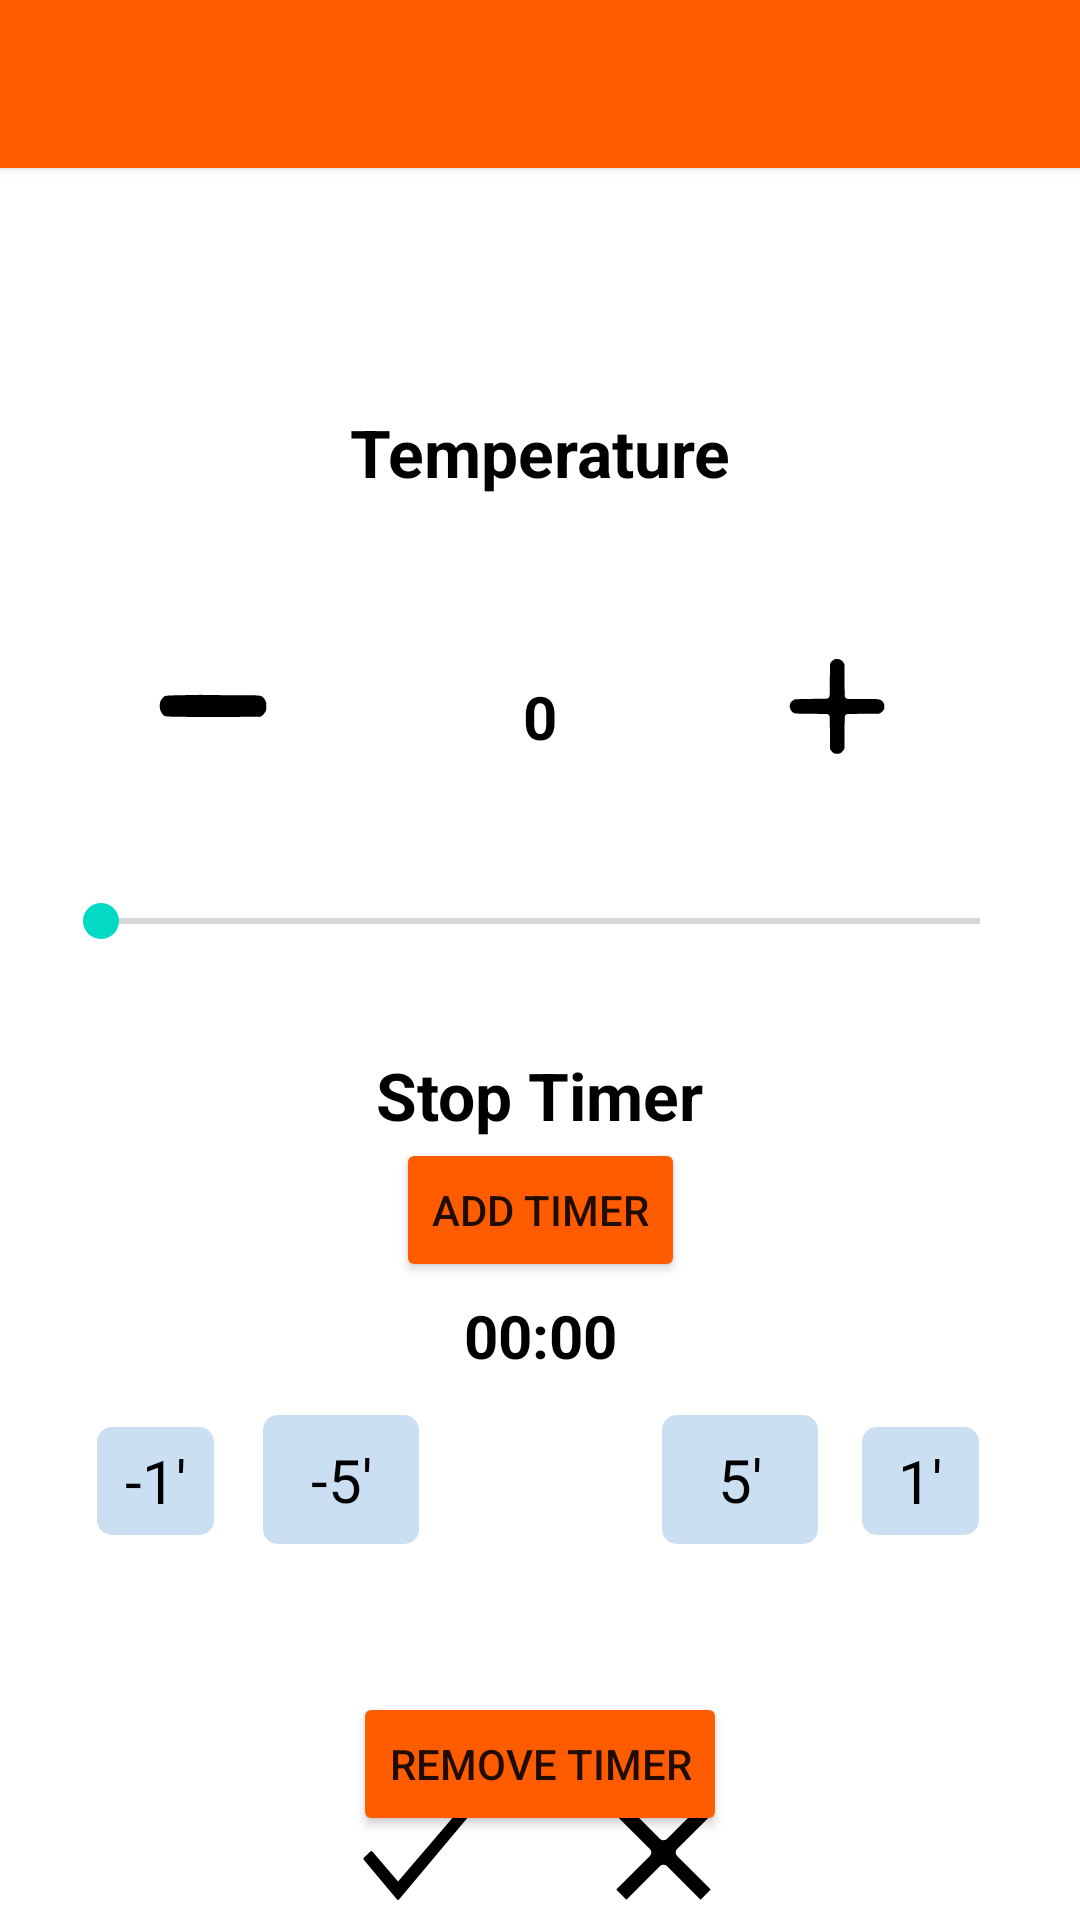

Named icons in this screenshot (1080px x 1920px) and their bounding boxes, (x1, y1, x2, y2):
minus: (159, 694, 267, 717)
plus: (789, 659, 885, 754)
